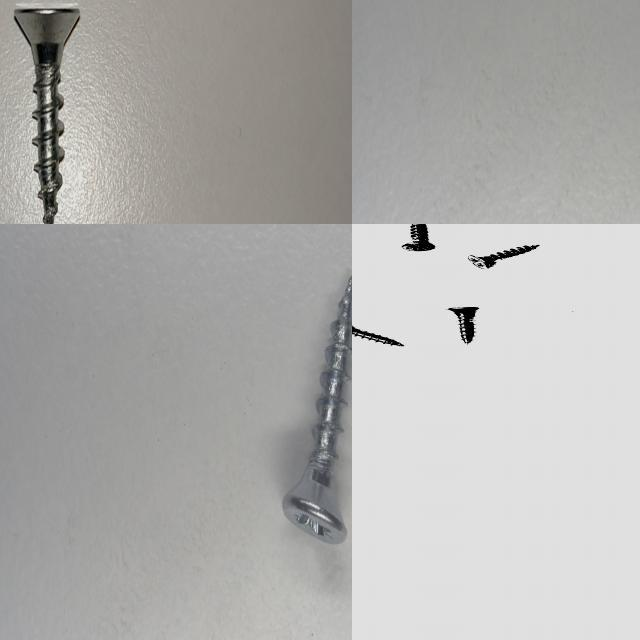Screw: (282, 275, 352, 543), (14, 3, 80, 224), (467, 245, 538, 269), (447, 307, 478, 344), (352, 327, 403, 346), (400, 224, 434, 251)
